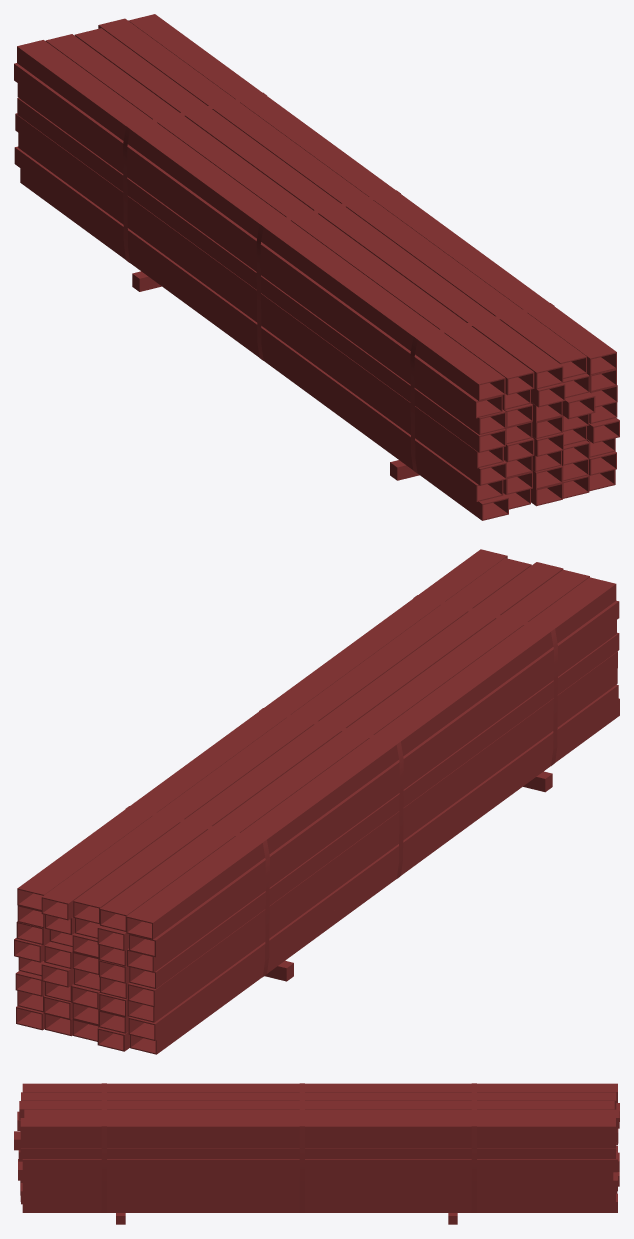
The model's file is SM_SteelBeam02Pack01.fbx.
3 views of the same model, one above another, from view 1: azimuth 30°, elevation 25°; view 2: azimuth 150°, elevation 25°; view 3: azimuth 270°, elevation 25° (orthographic). The views are drawn at different scales.
Parts seen in each view (by area): view 1: SteelBeam02Pack01; view 2: SteelBeam02Pack01; view 3: SteelBeam02Pack01.
Boxes of the visible parts, x1,y1,x2,y2 form: SteelBeam02Pack01: (14,14,619,520); SteelBeam02Pack01: (14,549,619,1054); SteelBeam02Pack01: (14,1083,619,1224).
Bounding box in the file's own units: 58.46 × 52.85 × 305.
